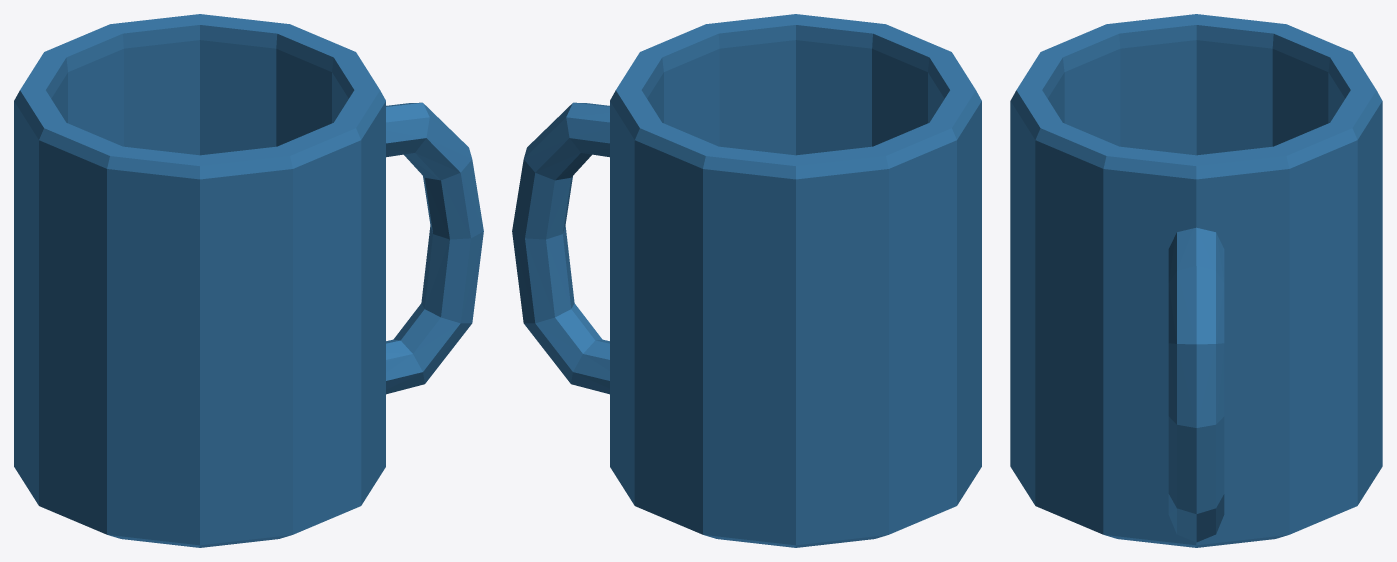
The model's file is mug.glb.
3 renders of one model, left to right at view 1: azimuth 30°, elevation 25°; view 2: azimuth 150°, elevation 25°; view 3: azimuth 270°, elevation 25°, orthographic.
Visible parts, largest first — view 1: Blue ceramic mug shell; view 2: Blue ceramic mug shell; view 3: Blue ceramic mug shell.
Part boxes in pixels (x1,y1,x2,y2): Blue ceramic mug shell: [14, 14, 483, 547]; Blue ceramic mug shell: [512, 14, 981, 547]; Blue ceramic mug shell: [1010, 14, 1382, 547].
Bounding box in the file's own units: 0.129 × 0.109 × 0.094.
